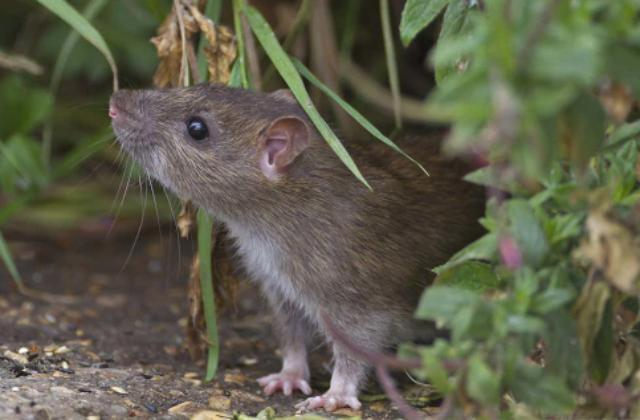rat: (101, 77, 387, 412)
